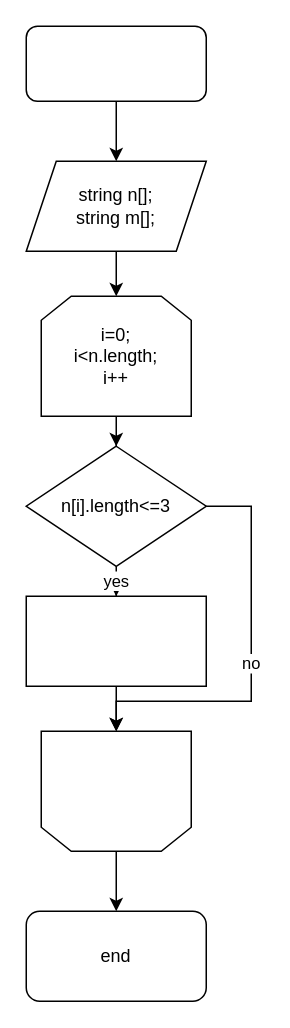
The diagram is 290 pixels wide and 1028 high, and some of its shapes have lost their labels. The centre of each missing label's shape, as x and y in pixels:
"m[i] = n[i];" goes at pixel 115 640.
"Start SelectionElements" goes at pixel 115 63.
